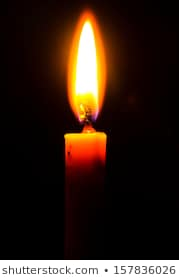Fire: (67, 5, 107, 125)
